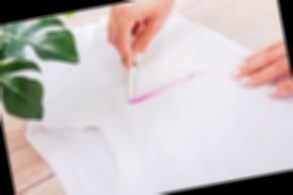lipstick: (124, 78, 206, 108)
